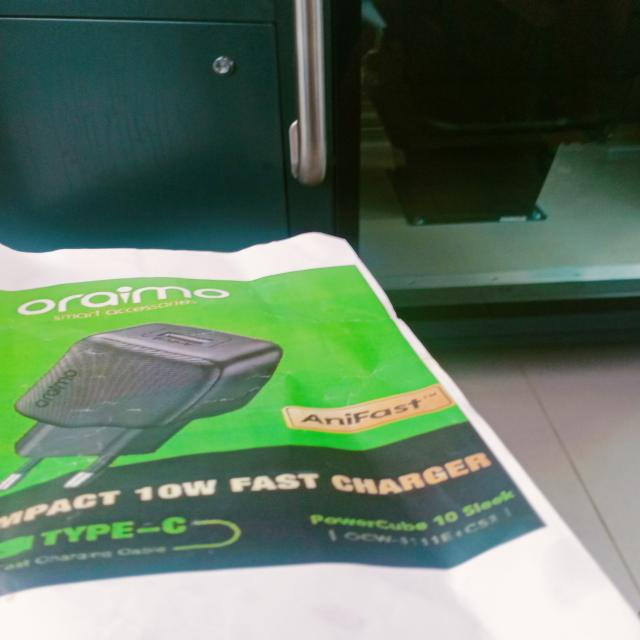PowerCube 10 Sleek OCW-1111ExL53: (292, 481, 537, 555)
